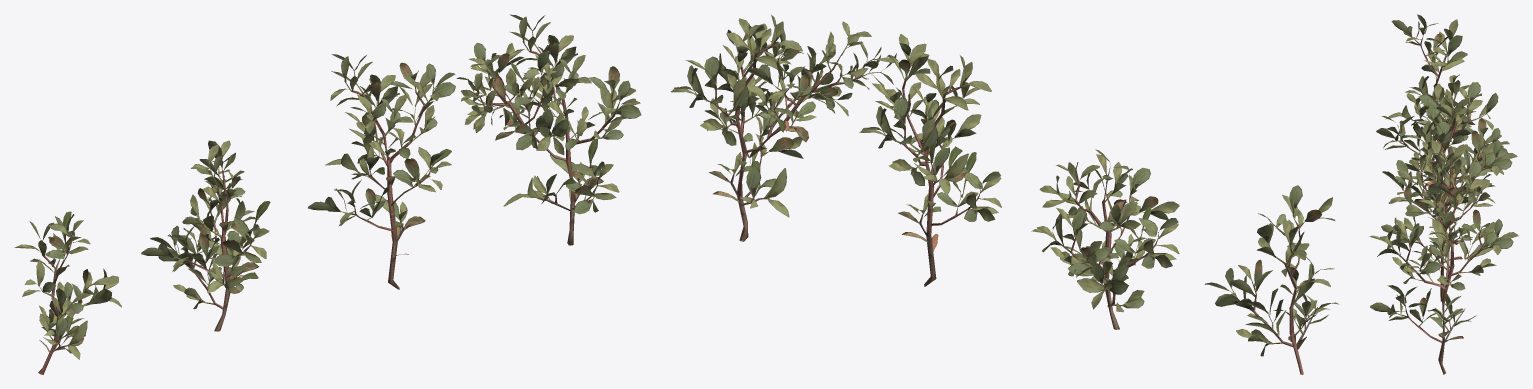
File: shrub_04.glb
3 renders of one model, left to right at view 1: azimuth 30°, elevation 25°; view 2: azimuth 150°, elevation 25°; view 3: azimuth 270°, elevation 25°, orthographic. The views are drawn at different scales.
Parts seen in each view (by area): view 1: shrub_04; view 2: shrub_04; view 3: shrub_04.
Part boxes in pixels (<box>): shrub_04: <box>14,14,641,374</box>; shrub_04: <box>670,15,1339,374</box>; shrub_04: <box>1369,14,1518,374</box>.
Size of the model in its own units: 0.5831 by 0.2186 by 0.1459.
1 material, 1 textured.
